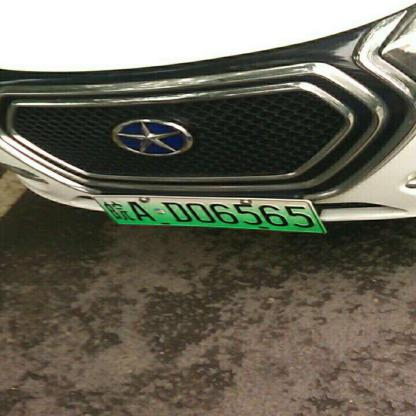lp: (90, 196, 323, 232)
